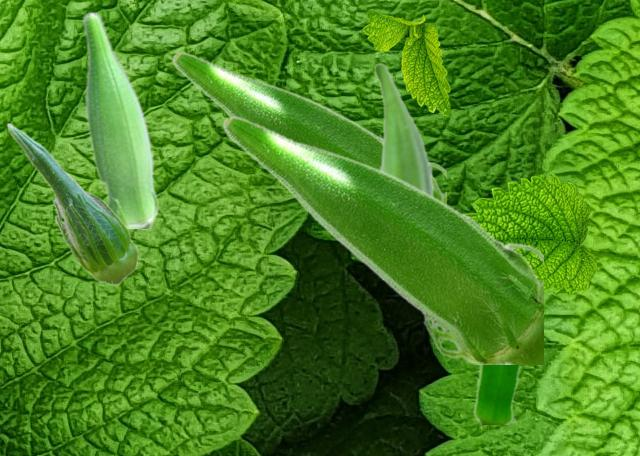okra: (221, 115, 542, 363), (171, 51, 445, 202), (6, 122, 138, 284), (81, 11, 157, 227), (473, 179, 523, 423), (373, 62, 433, 194)
